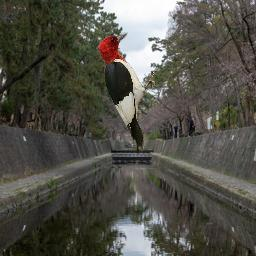Woodpecker: (97, 31, 159, 154)
